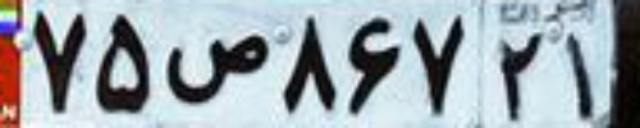1: (558, 32, 597, 121)
2: (495, 31, 544, 121)
5: (91, 14, 153, 114)
6: (344, 15, 402, 114)
7: (32, 11, 88, 112), (410, 14, 466, 115)
8: (281, 15, 337, 113)
saat: (162, 32, 274, 103)
